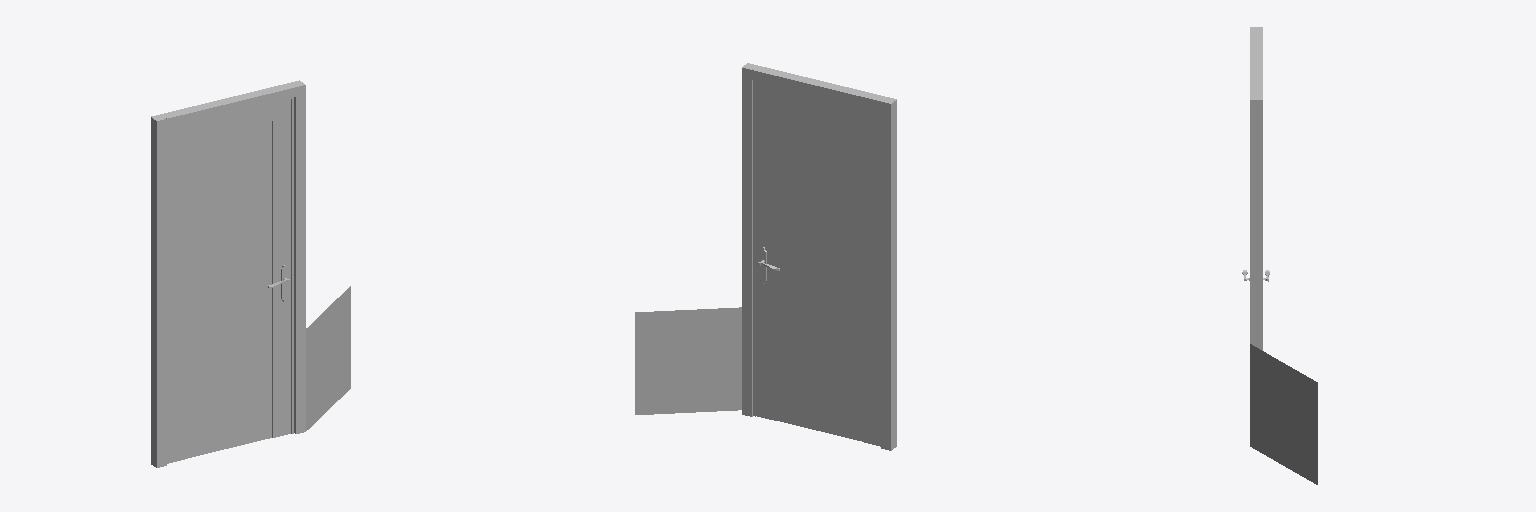
File: door.obj
The picture shows the model from 3 angles: view 1: azimuth 30°, elevation 25°; view 2: azimuth 150°, elevation 25°; view 3: azimuth 270°, elevation 25°; orthographic projection.
Visible parts, largest first — view 1: GVDFSDFG_001, F_RENDER_DESIGNS_001, GVDFSDFG_002; view 2: GVDFSDFG_002, F_RENDER_DESIGNS_001, GVDFSDFG_001; view 3: F_RENDER_DESIGNS_001, GVDFSDFG_002, GVDFSDFG_001.
Part boxes in pixels (x1,y1,x2,y2): GVDFSDFG_001: (154, 83, 305, 467); F_RENDER_DESIGNS_001: (306, 286, 350, 430); GVDFSDFG_002: (151, 80, 302, 465); GVDFSDFG_002: (742, 65, 893, 450); F_RENDER_DESIGNS_001: (635, 307, 741, 414); GVDFSDFG_001: (746, 63, 896, 447); F_RENDER_DESIGNS_001: (1250, 344, 1317, 484); GVDFSDFG_002: (1256, 27, 1262, 350); GVDFSDFG_001: (1250, 27, 1255, 346).
Bounding box in the file's own units: 54.24 × 78.74 × 15.42.